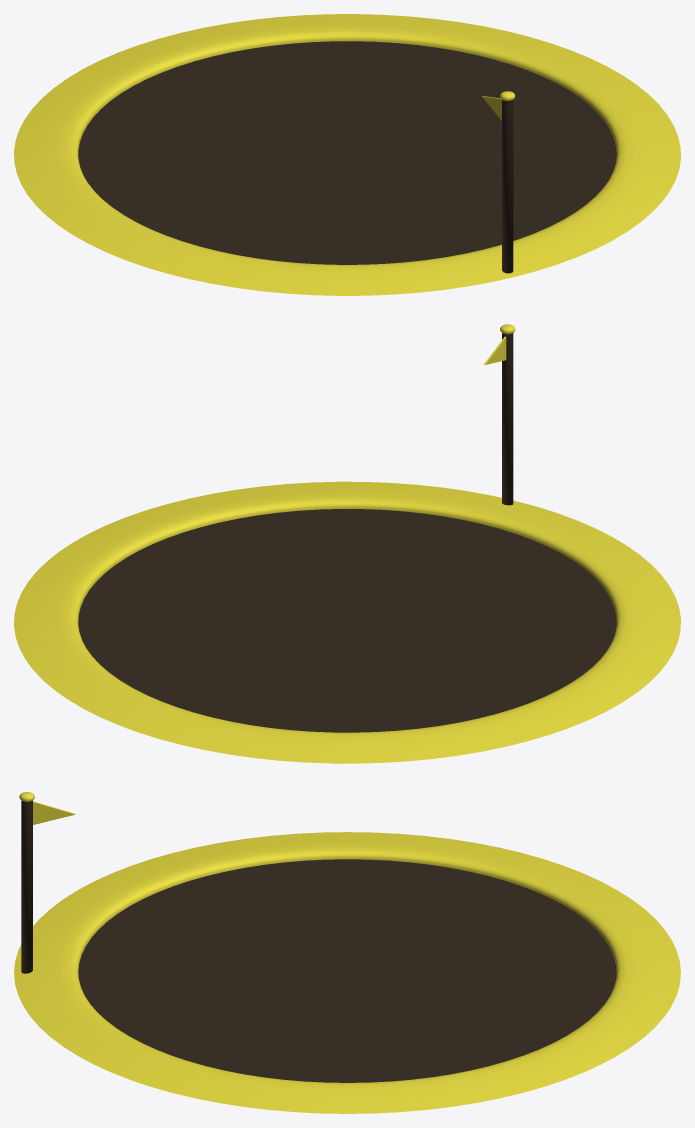
Rendered from winHole.fbx.
The picture shows the model from 3 angles, top to bottom: view 1: azimuth 30°, elevation 25°; view 2: azimuth 150°, elevation 25°; view 3: azimuth 270°, elevation 25°; orthographic projection.
Parts seen in each view (by area): view 1: hole, ring, flag_stick; view 2: hole, ring, flag_stick; view 3: hole, ring, flag_stick, flag_pointer.
Part boxes in pixels (<box>): hole: <box>78,41,616,264</box>; ring: <box>14,14,680,295</box>; flag_stick: <box>502,100,513,273</box>; hole: <box>78,509,616,732</box>; ring: <box>14,481,680,763</box>; flag_stick: <box>502,333,513,505</box>; hole: <box>78,859,616,1082</box>; ring: <box>14,832,680,1113</box>; flag_stick: <box>21,800,32,973</box>; flag_pointer: <box>33,801,75,824</box>.
Bounding box in the file's own units: 344 × 102 × 344.
